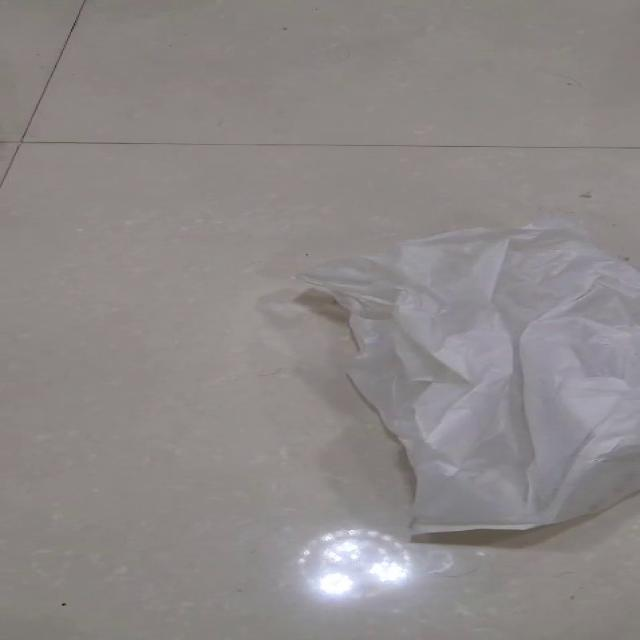plastic: (285, 217, 639, 537)
